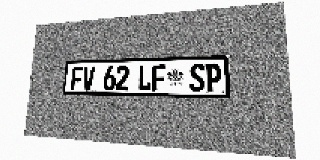2: (115, 65, 129, 91)
6: (103, 66, 116, 90)
F: (151, 65, 166, 91), (71, 67, 83, 90)
L: (138, 65, 151, 91)
P: (205, 63, 222, 92)
S: (189, 64, 205, 91)
V: (82, 66, 95, 90)
